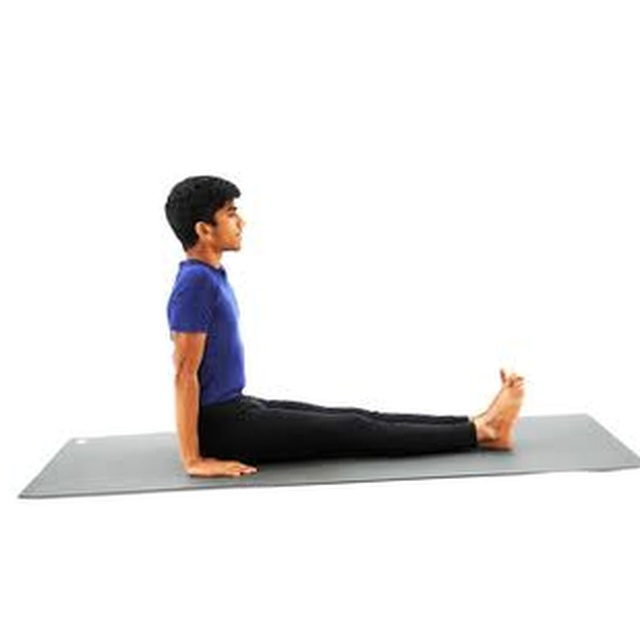Staff_Pose: (163, 175, 525, 477)
